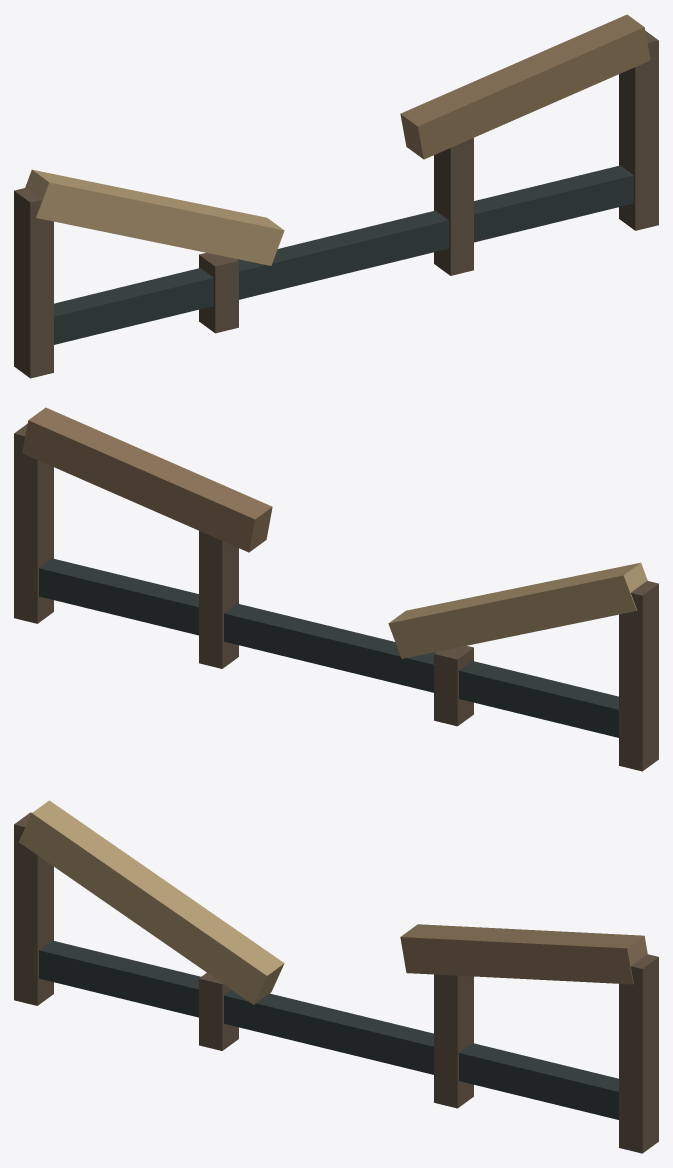
The model's file is SW_Rail_Broken.fbx.
3 views of the same model, one above another, from view 1: azimuth 30°, elevation 25°; view 2: azimuth 150°, elevation 25°; view 3: azimuth 330°, elevation 25° (orthographic).
Visible parts, largest first — view 1: SW_Rail_Broken; view 2: SW_Rail_Broken; view 3: SW_Rail_Broken.
Boxes of the visible parts, x1=… form: SW_Rail_Broken: x1=14, y1=14, x2=658, y2=378; SW_Rail_Broken: x1=14, y1=407, x2=658, y2=771; SW_Rail_Broken: x1=14, y1=800, x2=658, y2=1153.
Size of the model in its own units: 3.74 by 1.15 by 0.18.
